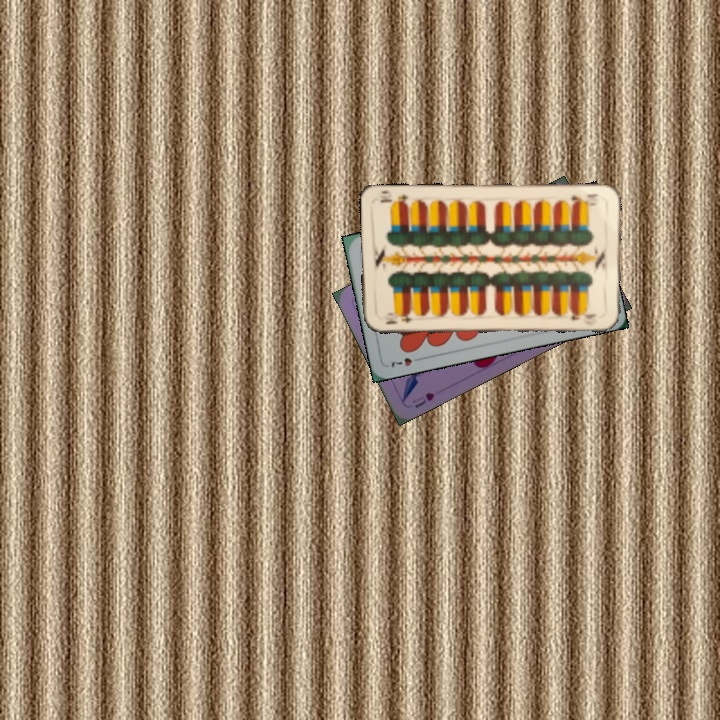E10: (382, 309, 414, 327), (567, 190, 601, 206)
H7: (387, 353, 425, 370)
HU: (408, 388, 438, 411)
